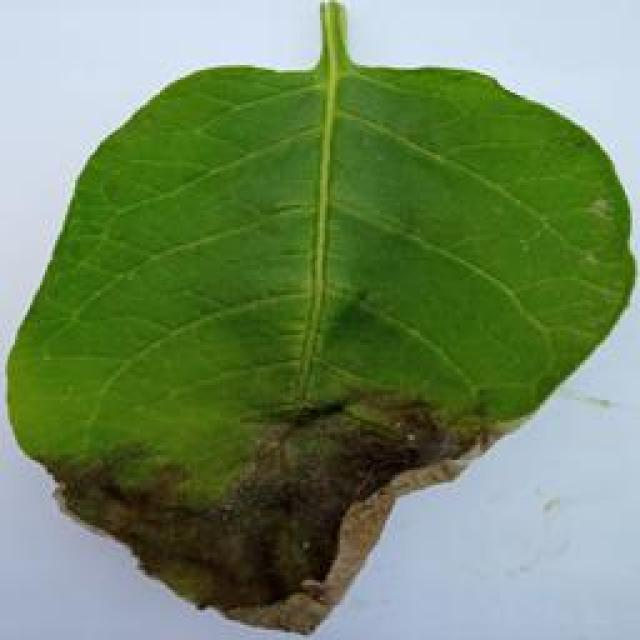Potato_Late_Blight: (9, 7, 621, 630)
